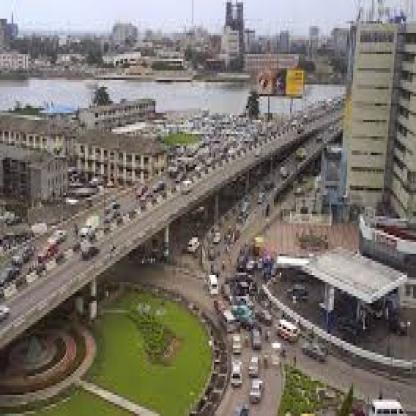car: (248, 372, 266, 412)
